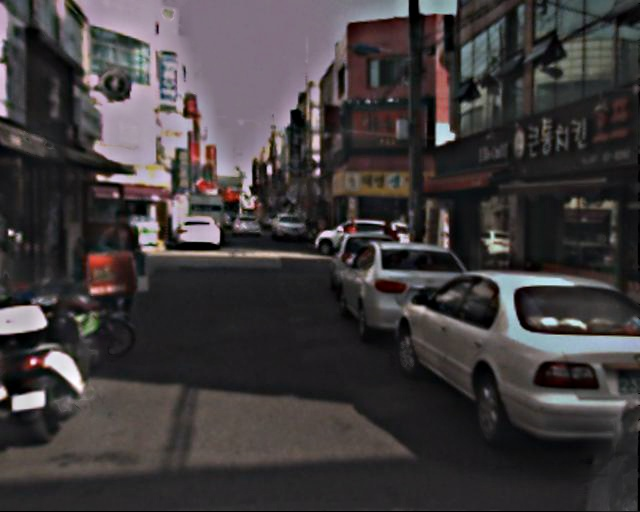person: (97, 209, 151, 326), (381, 219, 399, 262), (343, 217, 360, 258)
